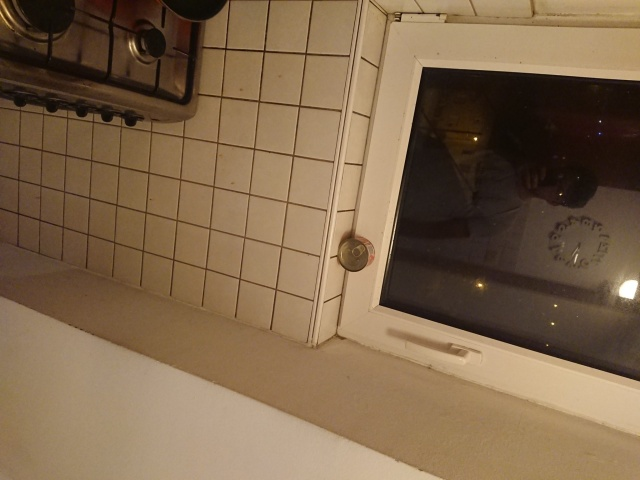Podravka Luncheon Meat 150g: (335, 235, 377, 274)
